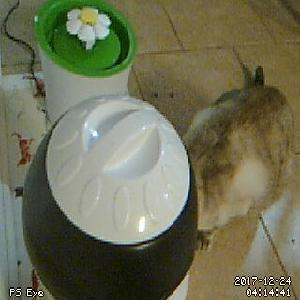cat: (180, 64, 297, 254)
fountain: (33, 1, 137, 79)
